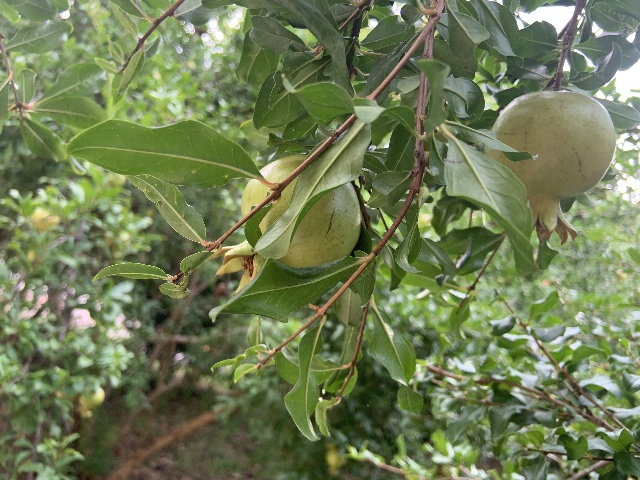mid-growth: (211, 154, 361, 296), (485, 90, 616, 245), (74, 386, 104, 417)
